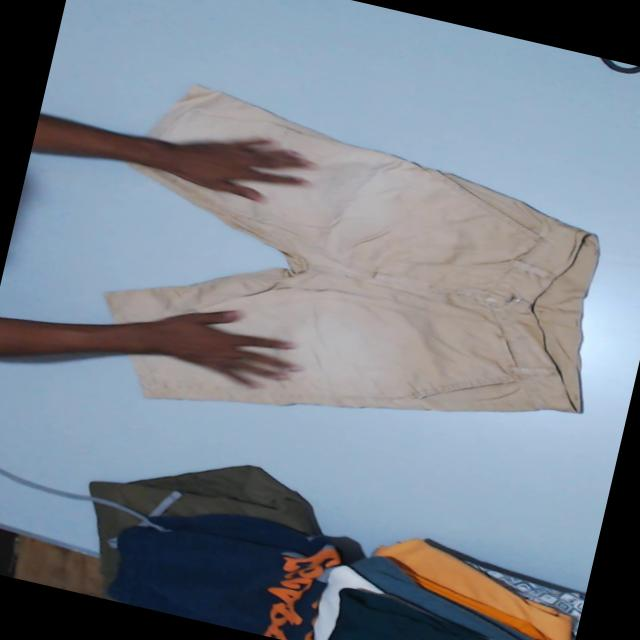new-garment: (105, 85, 598, 411)
